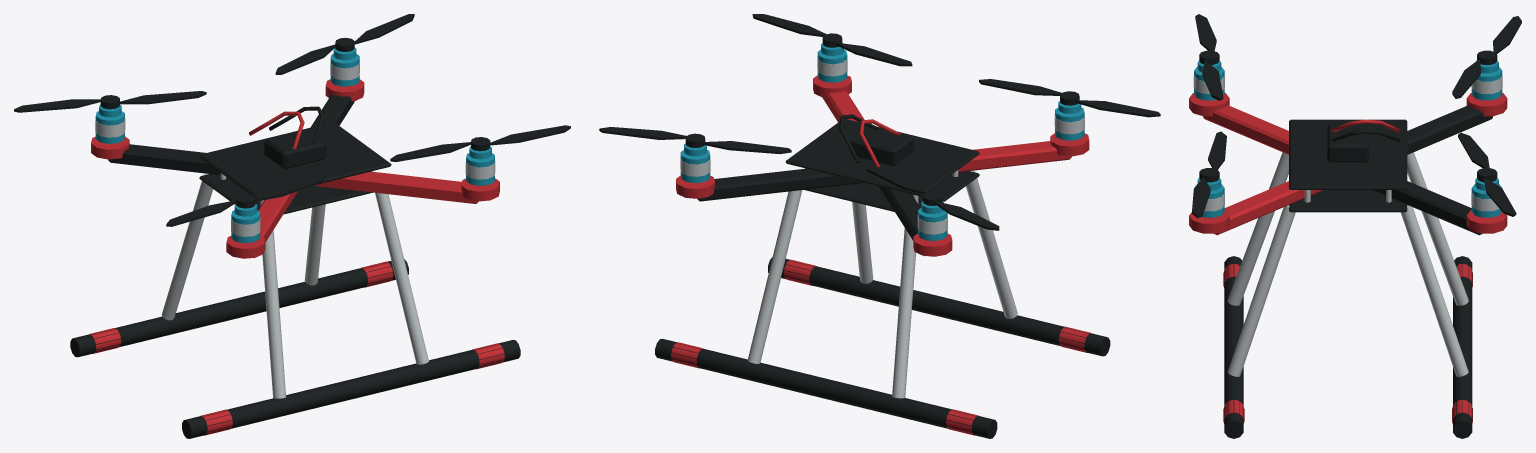
3 views of the same model, side by side, from view 1: azimuth 30°, elevation 25°; view 2: azimuth 150°, elevation 25°; view 3: azimuth 270°, elevation 25° (orthographic). The views are drawn at different scales.
Visible parts, largest first — view 1: Long black landing skid, Tall silver landing strut, Red skid end band, Blue motor bell; view 2: Long black landing skid, Tall silver landing strut, Red skid end band, Blue motor bell; view 3: Long black landing skid, Tall silver landing strut, Red skid end band, Blue motor bell.
Part boxes in pixels (x1,y1,x2,y2): Long black landing skid: [14, 14, 570, 438]; Tall silver landing strut: [95, 61, 495, 398]; Red skid end band: [89, 79, 504, 435]; Blue motor bell: [95, 47, 494, 243]; Long black landing skid: [599, 14, 1160, 438]; Tall silver landing strut: [680, 57, 1084, 398]; Red skid end band: [671, 75, 1091, 435]; Blue motor bell: [680, 43, 1084, 240]; Long black landing skid: [1192, 14, 1521, 438]; Tall silver landing strut: [1193, 75, 1502, 376]; Red skid end band: [1189, 93, 1507, 423]; Blue motor bell: [1194, 60, 1502, 217].
Bounding box in the file's own units: 0.5646 × 0.317 × 0.3932.
